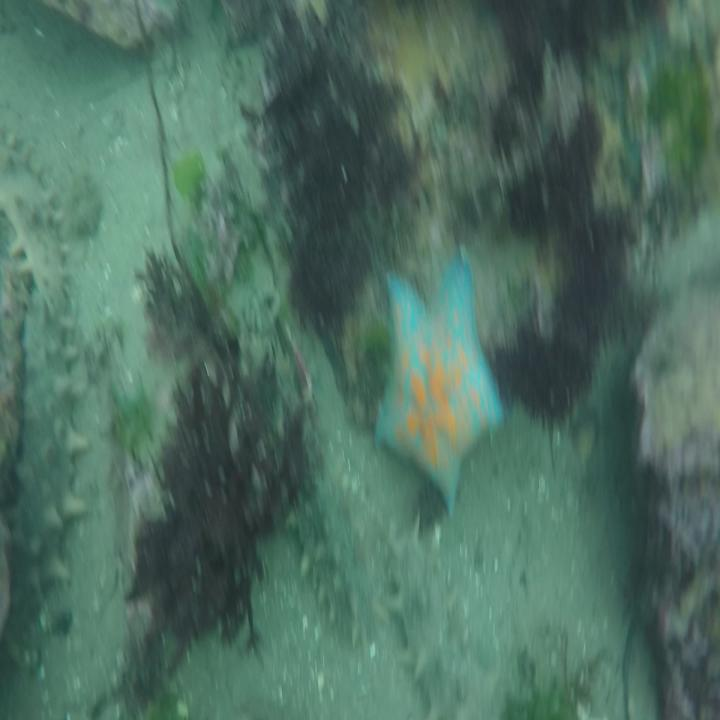holothurian: (5, 277, 85, 623), (278, 439, 373, 646), (379, 525, 464, 720), (0, 126, 64, 317)
starfish: (372, 251, 507, 511)
